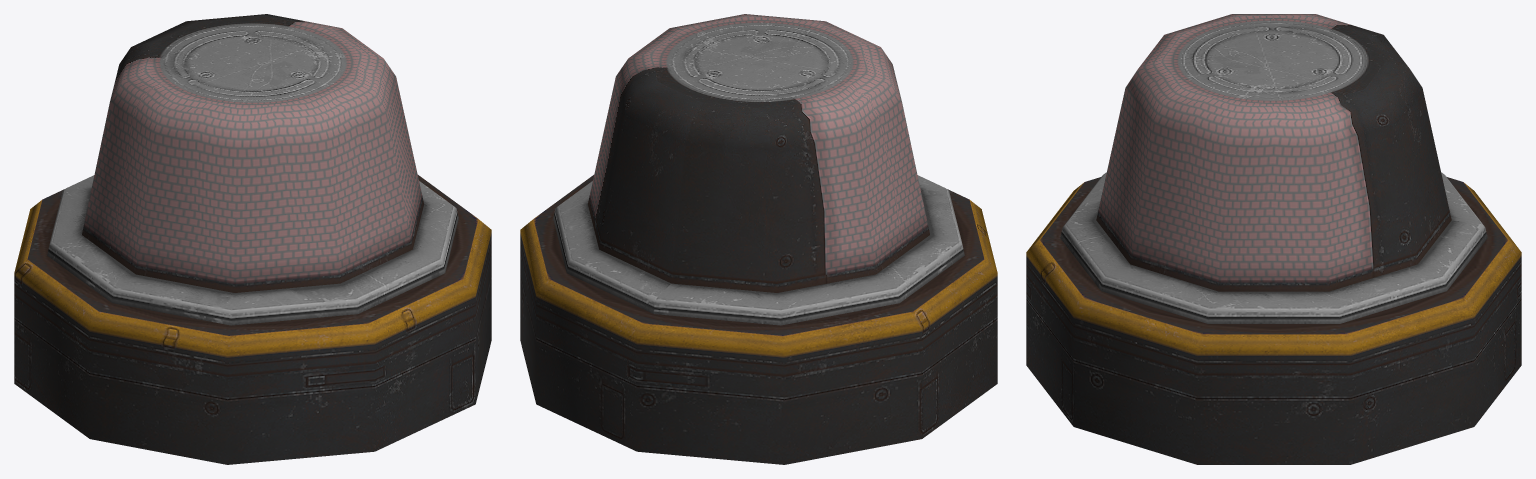
File: Lamp_Position_L1.fbx
The picture shows the model from 3 angles, left to right: view 1: azimuth 30°, elevation 25°; view 2: azimuth 150°, elevation 25°; view 3: azimuth 270°, elevation 25°; orthographic projection.
Parts seen in each view (by area): view 1: Lamp, Base; view 2: Lamp, Base; view 3: Lamp, Base.
Part boxes in pixels (x1,y1,x2,y2): Lamp: (47, 14, 458, 325); Base: (14, 175, 491, 464); Lamp: (553, 14, 964, 325); Base: (520, 175, 997, 464); Lamp: (1060, 14, 1487, 323); Base: (1026, 177, 1521, 464).
Bounding box in the file's own units: 16.92 × 12.07 × 17.79.
